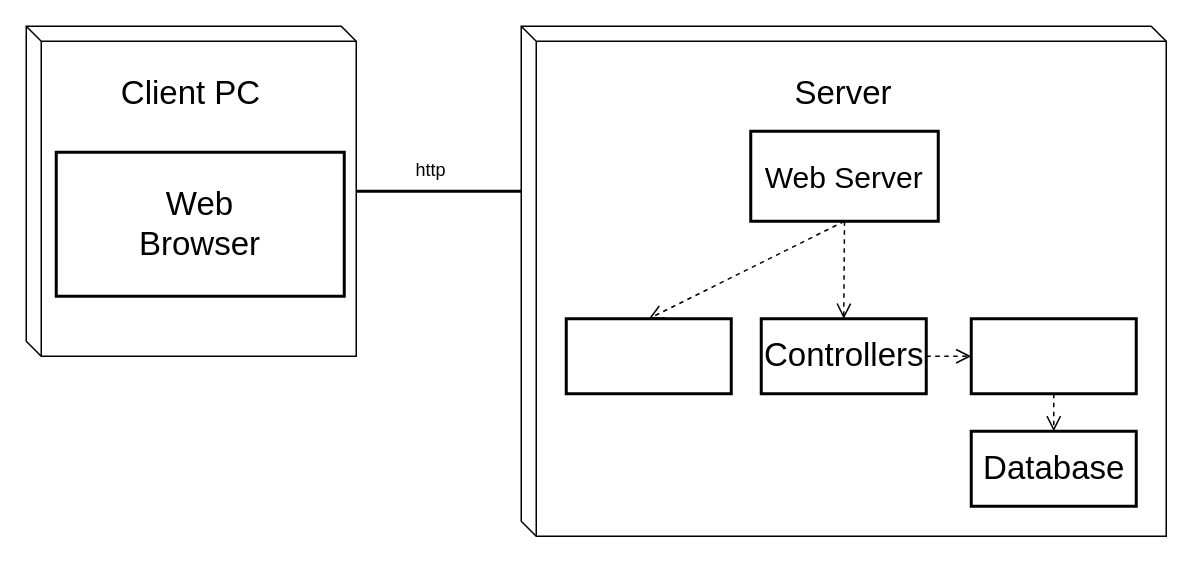
Some shapes in this 1193 by 563 pixel diagram are drawn without their labels. The shapes that lost their labels are listed below. From the top down, each one's centre as x and y in pixels, then its label:
point (648, 355): Views
point (1053, 355): Models
